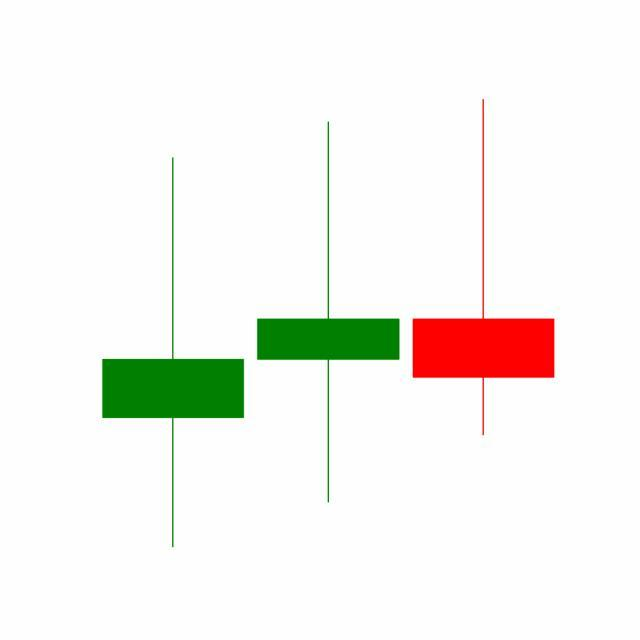Spinning Top: (250, 118, 407, 508)
